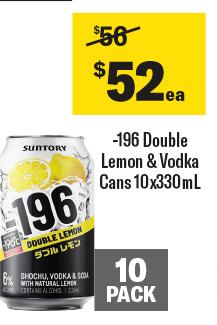description_block: (95, 125, 204, 199)
price_main: (72, 52, 208, 118)
product_image_block: (0, 127, 172, 309)
